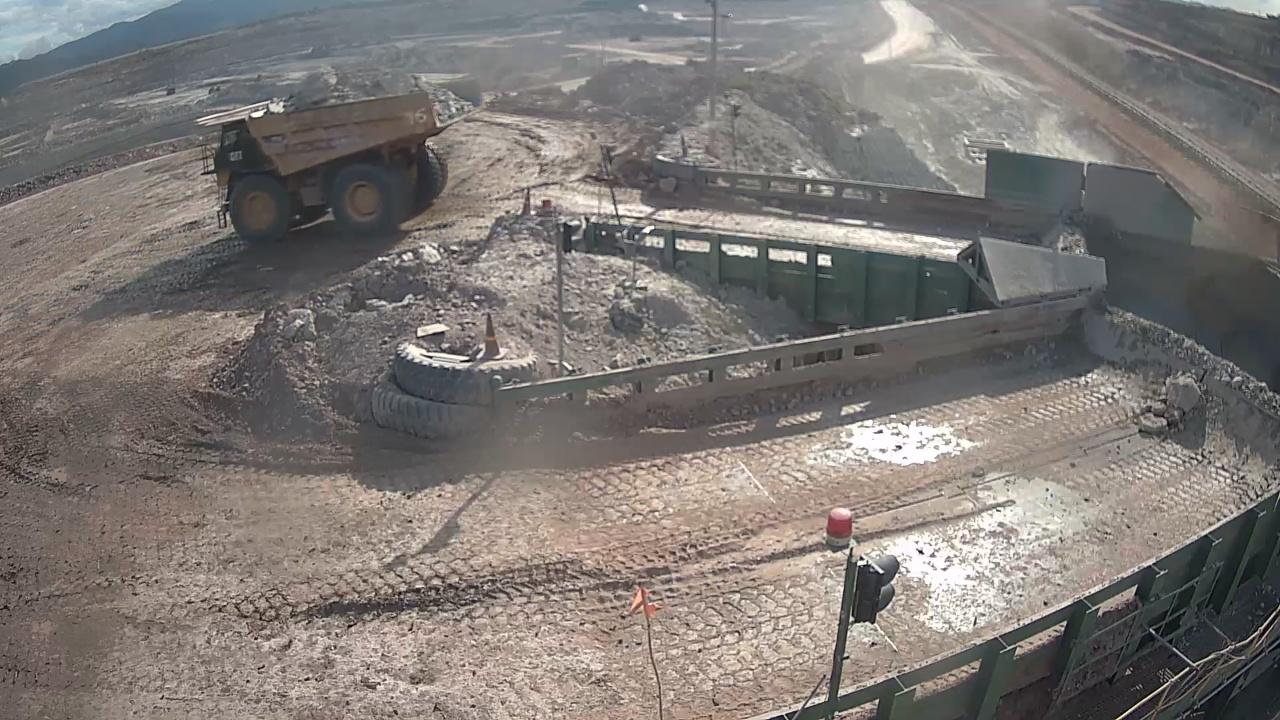mining_truck: (199, 69, 483, 244)
